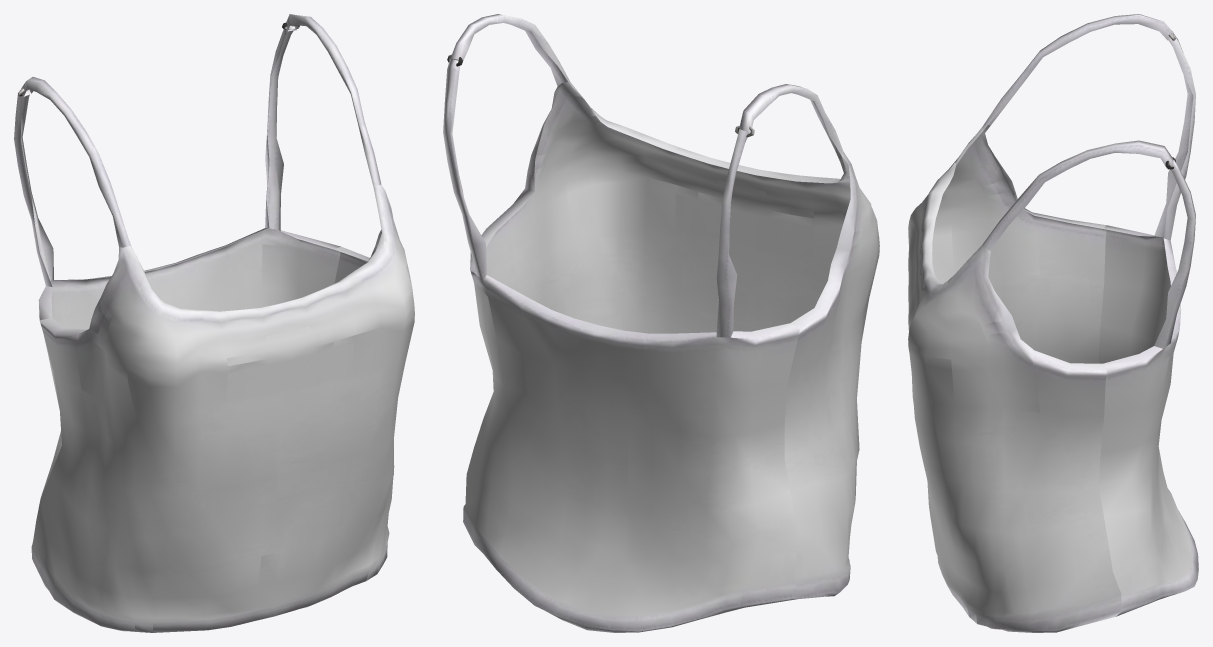
Rendered from punkduck-spaghetti-strap-tank-top.glb.
The picture shows the model from 3 angles, left to right: view 1: azimuth 30°, elevation 25°; view 2: azimuth 150°, elevation 25°; view 3: azimuth 270°, elevation 25°; orthographic projection. The views are drawn at different scales.
Parts seen in each view (by area): view 1: spaghetti strap tank top; view 2: spaghetti strap tank top; view 3: spaghetti strap tank top.
Part boxes in pixels (<box>): spaghetti strap tank top: <box>14,14,414,632</box>; spaghetti strap tank top: <box>443,14,879,632</box>; spaghetti strap tank top: <box>908,14,1198,632</box>.
Bounding box in the file's own units: 28.91 × 42.93 × 22.8.
Materials: 1 (1 with a texture image).
